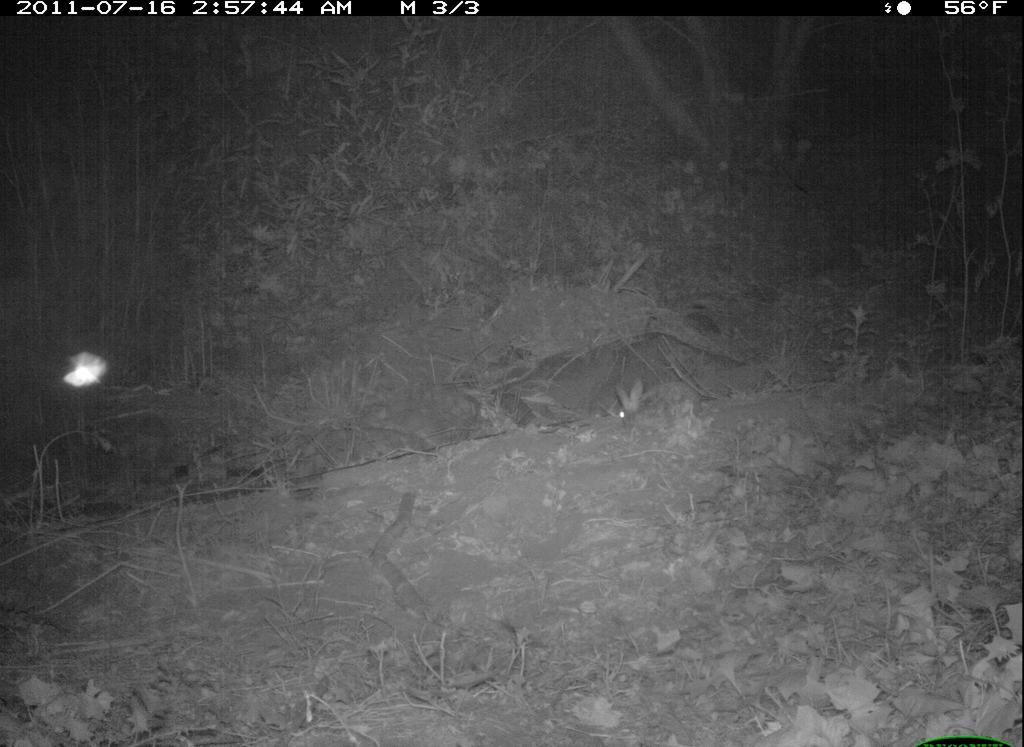rabbit: (609, 372, 706, 440)
